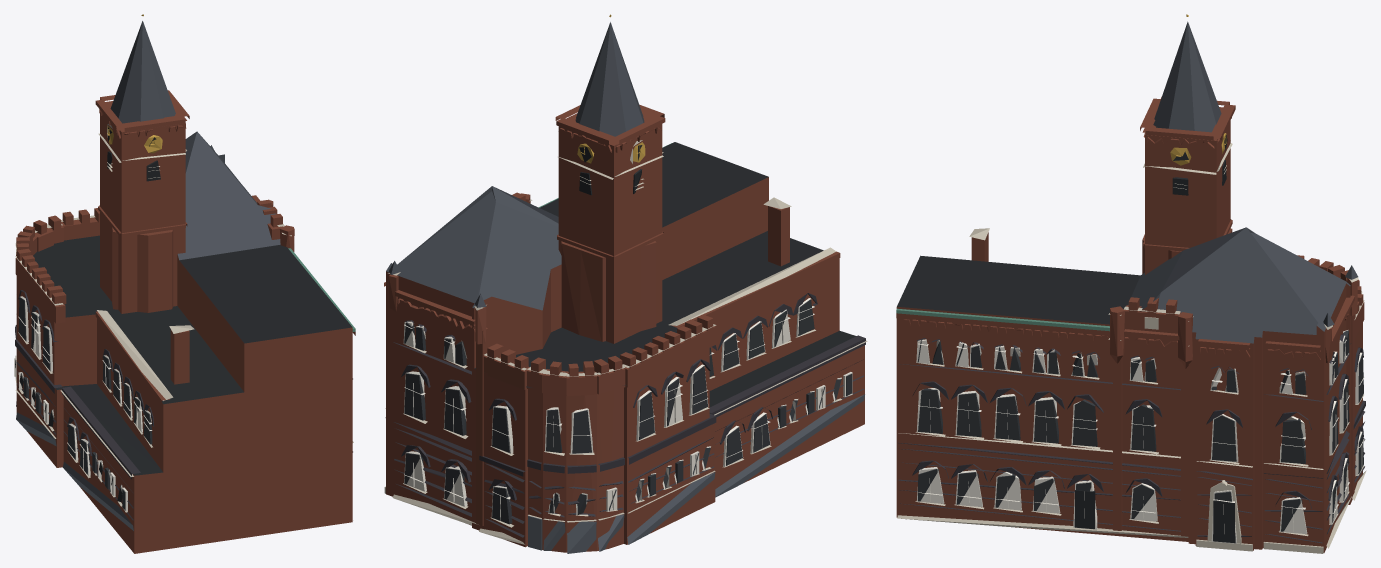
Rendered from politiebureau-raampoort.lod1.glb.
3 renders of one model, left to right at view 1: azimuth 30°, elevation 25°; view 2: azimuth 150°, elevation 25°; view 3: azimuth 270°, elevation 25°, orthographic. The views are drawn at different scales.
Parts seen in each view (by area): view 1: politiebureau-raampoort; view 2: politiebureau-raampoort; view 3: politiebureau-raampoort.
Boxes of the visible parts, x1=… form: politiebureau-raampoort: x1=14, y1=14, x2=355, y2=553; politiebureau-raampoort: x1=384, y1=14, x2=867, y2=553; politiebureau-raampoort: x1=896, y1=14, x2=1366, y2=553.
Bounding box in the file's own units: 18.98 × 28.75 × 26.43.
